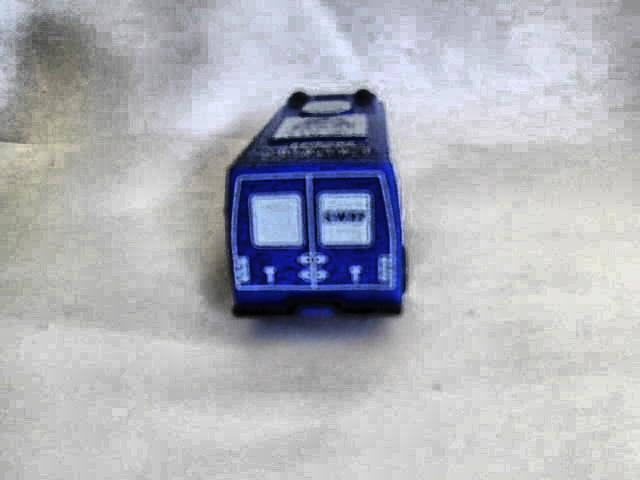police car: (225, 81, 409, 332)
